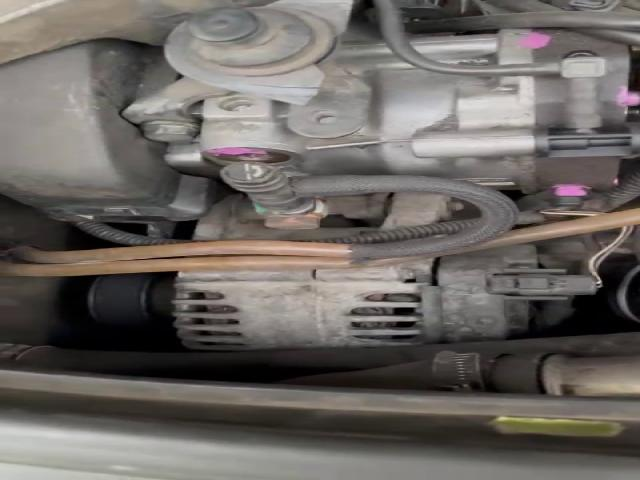alternator: (172, 260, 431, 350)
high_pressure_pump: (194, 29, 640, 202)
